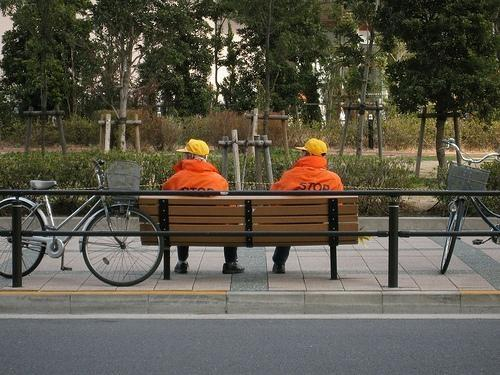bicycle: (2, 161, 163, 288), (439, 138, 500, 272)
